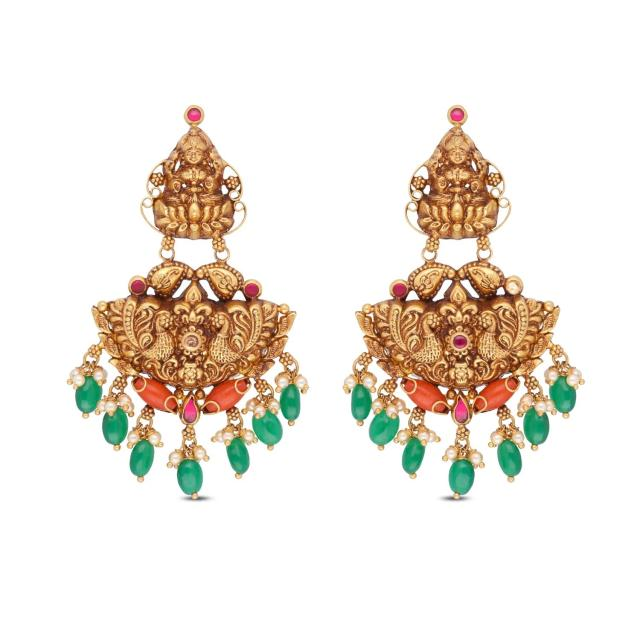missing gem: (185, 335, 198, 349)
